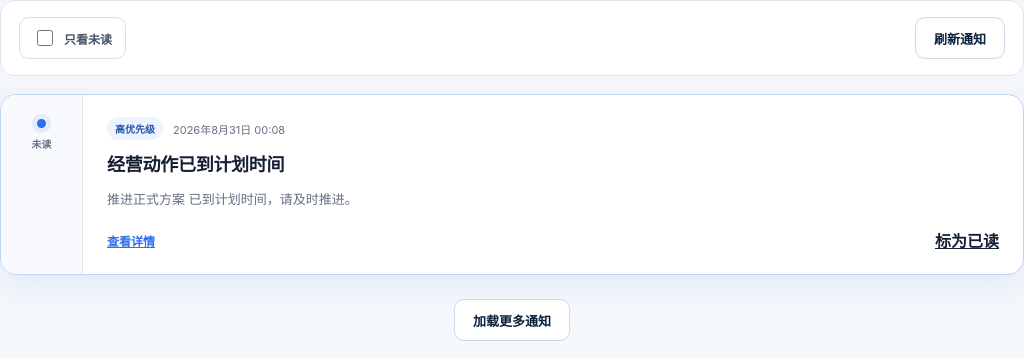
Test: InboxWorkspace › switches to unread-only results and ignores stale pagination responses
The image size is (1024, 358).
Expected: the heading "经营动作已到计划时间" is shown, 107,154 -> 284,175
Click the button "加载更多通知".
click(512, 320)  # box 454,299 -> 570,341
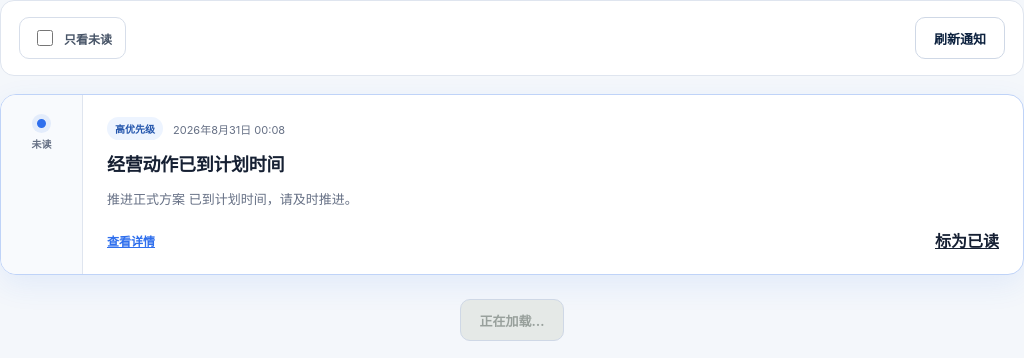
Click the checkbox labelled "只看未读".
click(45, 38)  # box 37,30 -> 53,46
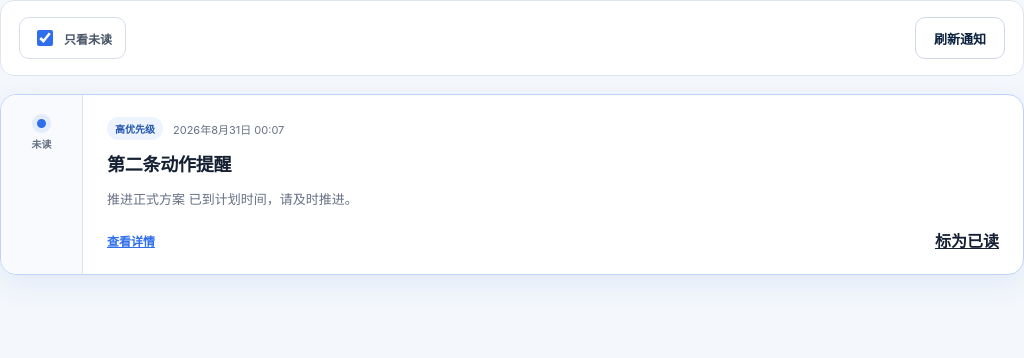
Expected: the heading "第二条动作提醒" is shown, 107,154 -> 231,175
Expected: the heading "经营动作已到计划时间" is gone
